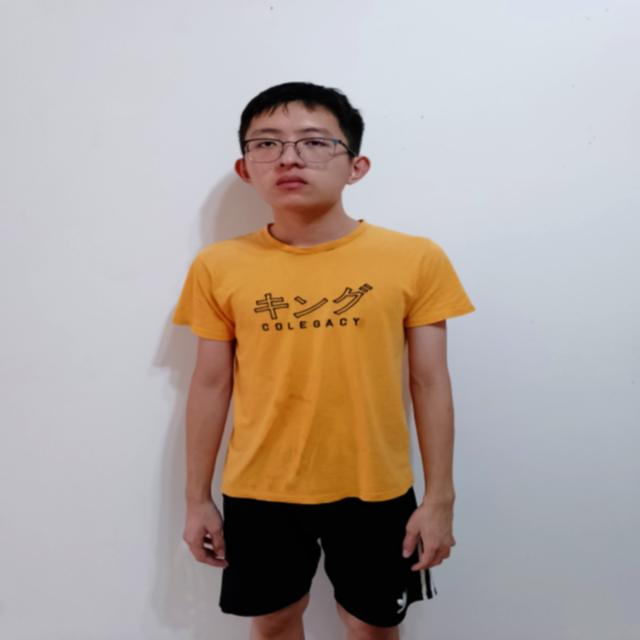person_without_labcoat: (174, 83, 474, 640)
